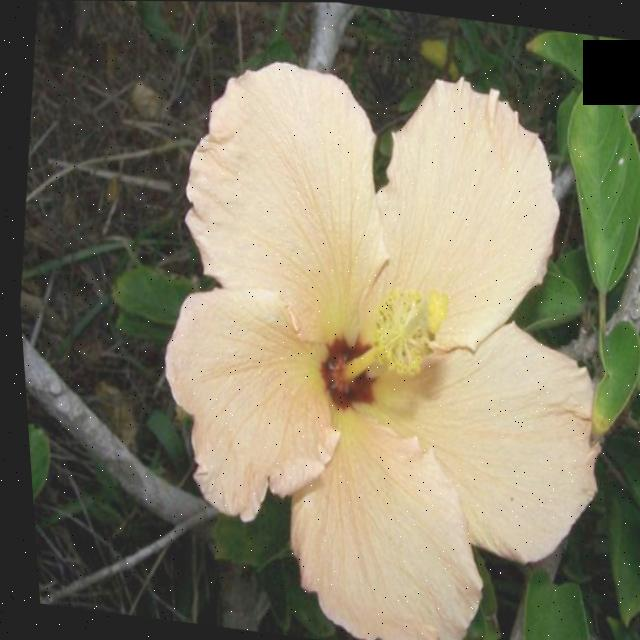hibiscus: (91, 2, 640, 640)
